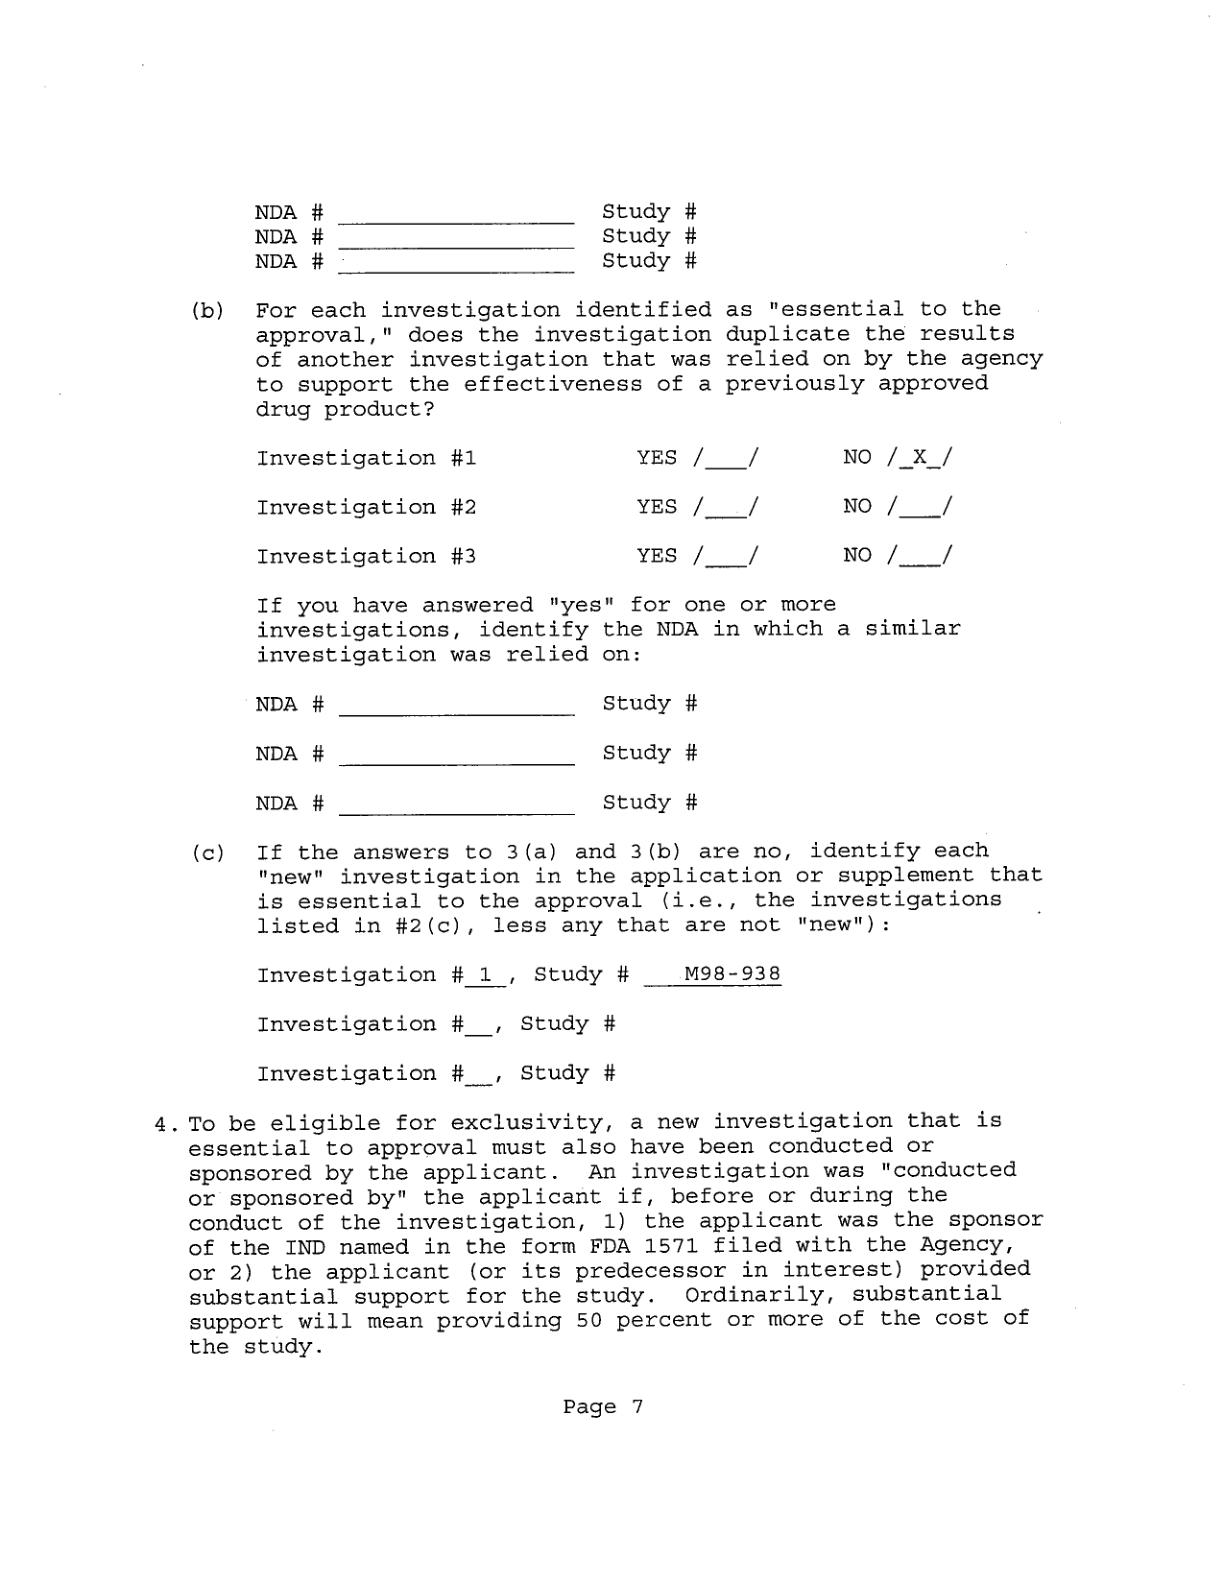nolines: (255, 431, 990, 579), (256, 963, 787, 1083), (255, 693, 702, 816), (252, 198, 699, 275)
